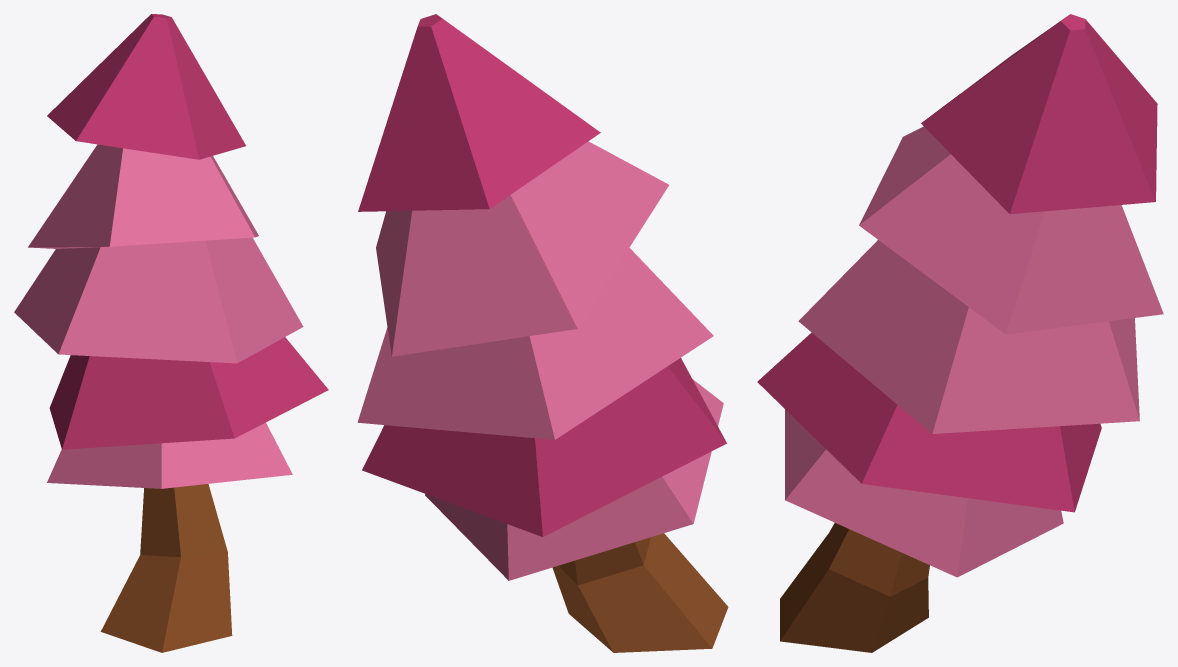
Rendered from agac1.fbx.
The picture shows the model from 3 angles, left to right: view 1: azimuth 30°, elevation 25°; view 2: azimuth 150°, elevation 25°; view 3: azimuth 270°, elevation 25°; orthographic projection. The views are drawn at different scales.
Parts seen in each view (by area): view 1: gezegen.001; view 2: gezegen.001; view 3: gezegen.001.
Part boxes in pixels (x1,y1,x2,y2): gezegen.001: [14, 14, 328, 652]; gezegen.001: [357, 14, 728, 652]; gezegen.001: [757, 14, 1163, 652].
Bounding box in the file's own units: 552 × 1096 × 620.
